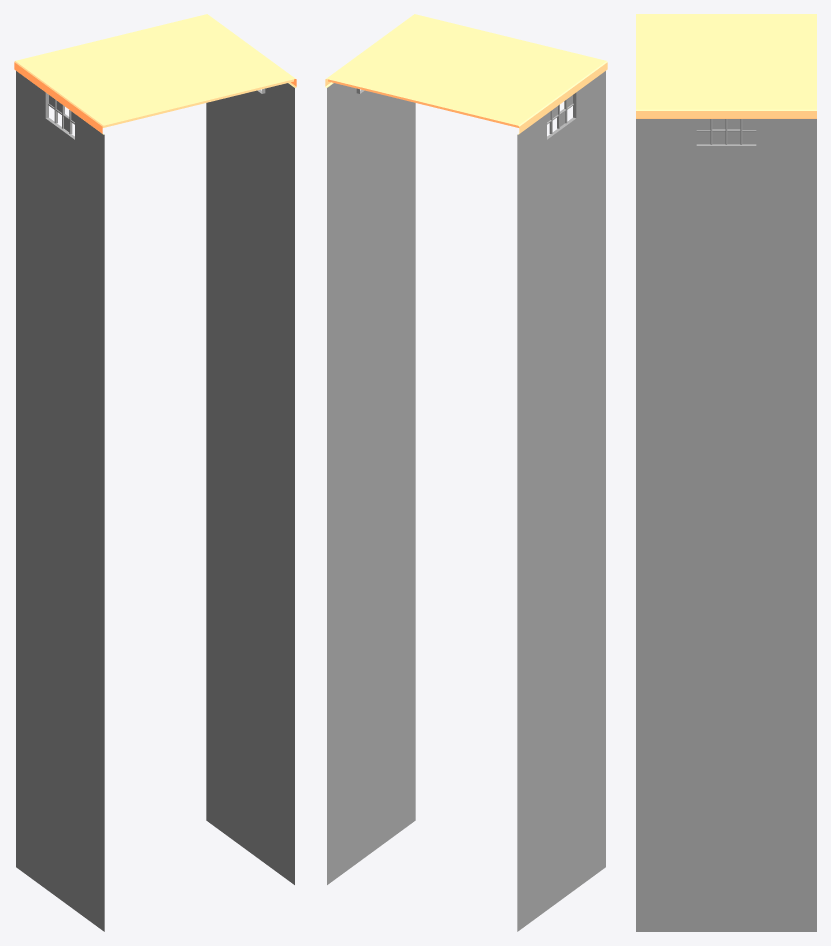
Rendered from SM_MainBuilding6.fbx.
3 renders of one model, left to right at view 1: azimuth 30°, elevation 25°; view 2: azimuth 150°, elevation 25°; view 3: azimuth 270°, elevation 25°, orthographic. The views are drawn at different scales.
Visible parts, largest first — view 1: SM_MainBuilding6_LOD0; view 2: SM_MainBuilding6_LOD0; view 3: SM_MainBuilding6_LOD0.
Part boxes in pixels (x1,y1,x2,y2): SM_MainBuilding6_LOD0: (14,14,296,931); SM_MainBuilding6_LOD0: (325,14,607,931); SM_MainBuilding6_LOD0: (636,14,816,931).
Bounding box in the file's own units: 753 × 595 × 2989.
